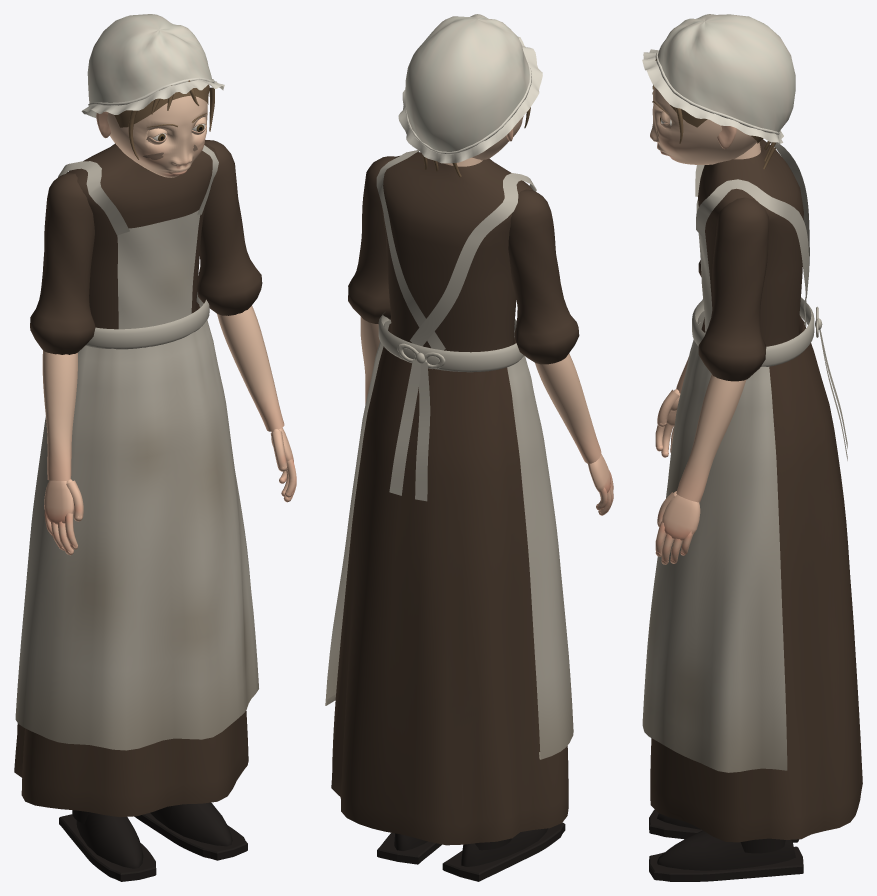
The model's file is becky.glb.
3 renders of one model, left to right at view 1: azimuth 30°, elevation 25°; view 2: azimuth 150°, elevation 25°; view 3: azimuth 270°, elevation 25°, orthographic.
Visible parts, largest first — view 1: body, head, arm_right, arm_left, arm_right_forearm, arm_left_forearm; view 2: body, head, arm_right, arm_left, arm_right_forearm, arm_left_forearm; view 3: body, head, arm_left, arm_left_forearm, arm_right_forearm.
Boxes of the visible parts, <box> form: body: <box>14,143,258,881</box>; head: <box>81,14,224,177</box>; arm_right: <box>30,172,95,354</box>; arm_left: <box>197,140,262,315</box>; arm_right_forearm: <box>42,350,83,555</box>; arm_left_forearm: <box>217,305,296,502</box>; body: <box>325,150,573,881</box>; head: <box>398,14,542,177</box>; arm_right: <box>508,189,579,364</box>; arm_left: <box>348,156,395,323</box>; arm_right_forearm: <box>535,353,613,515</box>; arm_left_forearm: <box>360,316,379,404</box>; body: <box>642,139,862,881</box>; head: <box>642,14,795,169</box>; arm_left: <box>698,197,768,381</box>; arm_left_forearm: <box>655,374,746,564</box>; arm_right_forearm: <box>655,357,688,457</box>.
Size of the model in its own units: 0.4324 by 1.39 by 0.3342.
